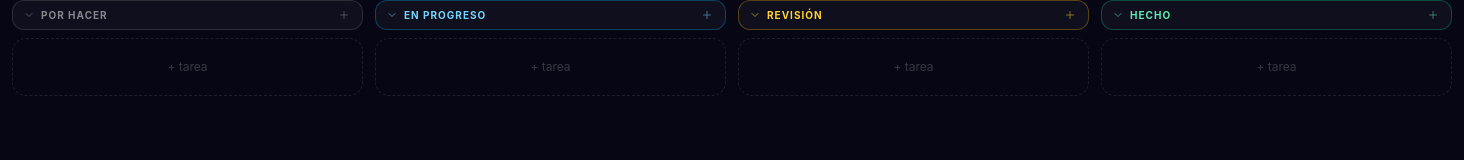
Test: KanbanBoard › shows add task form when add button clicked
The image size is (1464, 160).
Click the button named "agregar tarea a" at (344, 15), box x1=336 y1=7 x2=352 y2=23
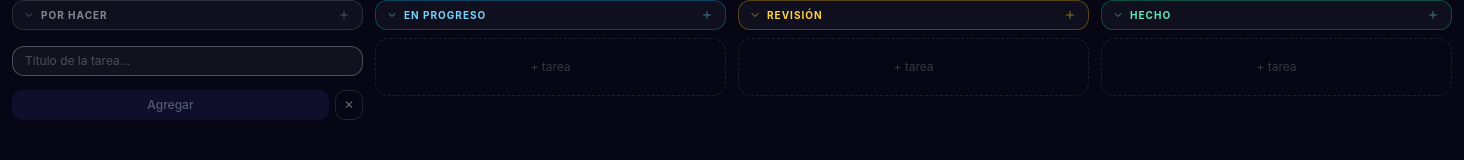
Now the field with placeholder "Título de la tarea…" is shown, box x1=12 y1=46 x2=363 y2=76
